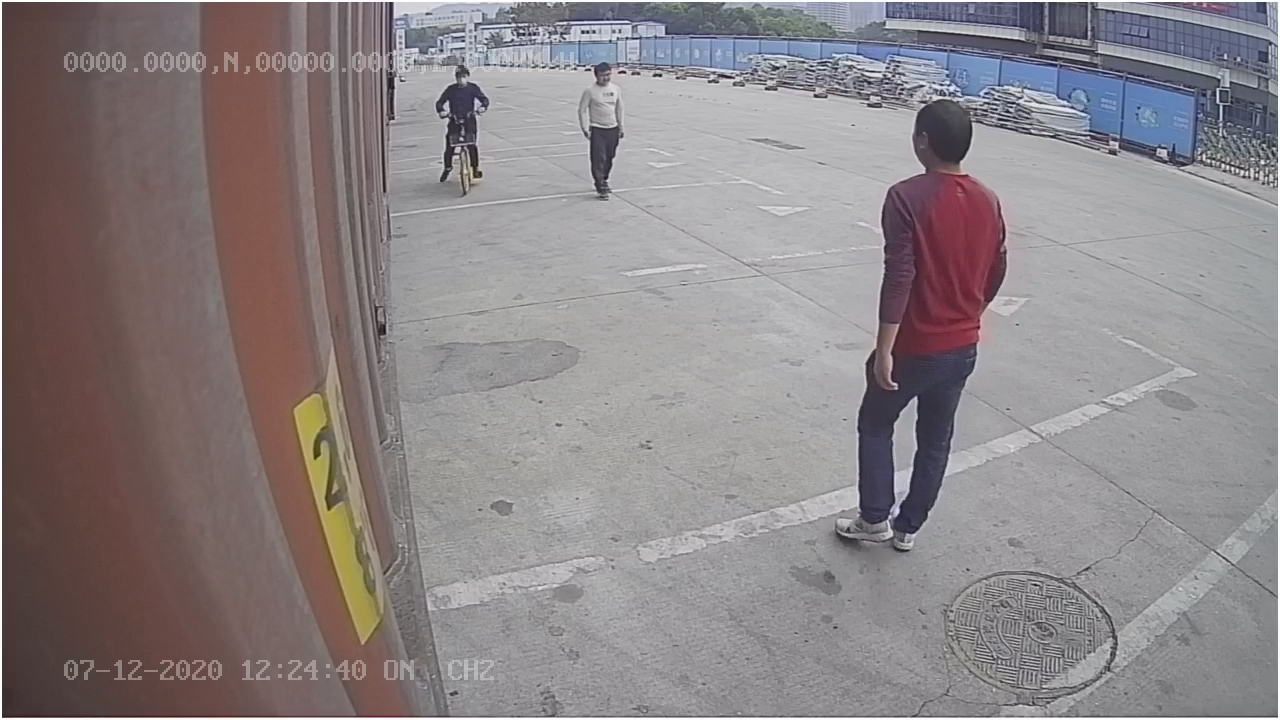person: (573, 60, 629, 204)
